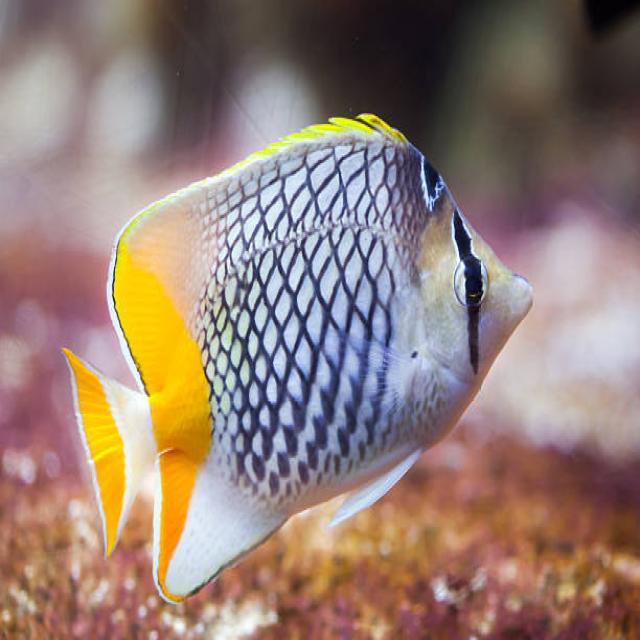ButterflyFish: (69, 115, 538, 590)
